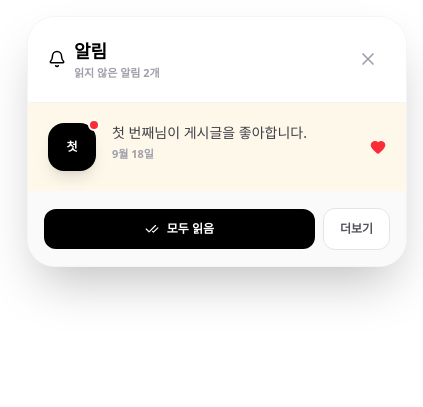
NotificationPanel server synchronization › deduplicates cursor results and stops when hasNext has no nextCursor
The width and height of the screenshot is (423, 407).
What coordinates should you click on to do the following:
click the button "더보기"
I would click on:
 (356, 228)
Its box is [323,208,390,250].
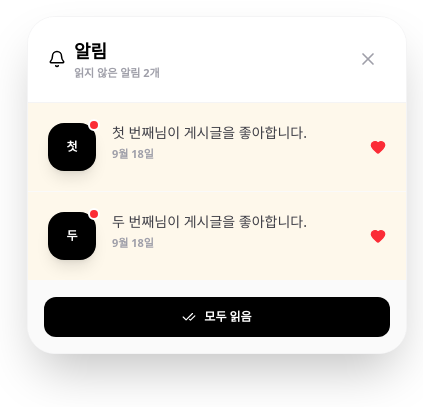
Expected: the text "첫 번째님이 게시글을 좋아합니다." is shown once, [112,122,307,142]
Expected: the text "두 번째님이 게시글을 좋아합니다." is shown, [112,212,307,230]
Expected: the button "더보기" is gone
